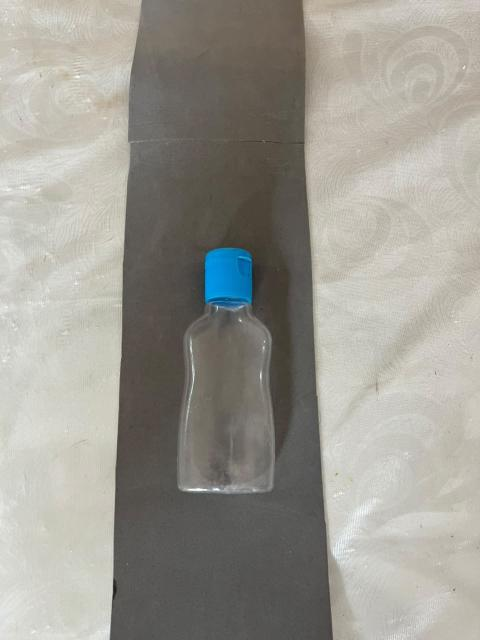PET: (147, 227, 303, 525)
